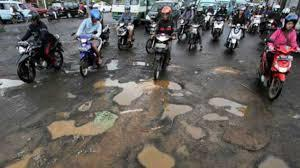Pothole: (90, 71, 188, 107), (30, 106, 122, 143), (208, 80, 245, 124), (130, 138, 184, 168), (152, 93, 191, 129), (1, 134, 40, 168), (243, 148, 300, 168), (203, 62, 245, 82), (55, 53, 84, 79), (96, 50, 122, 76), (177, 121, 208, 142), (0, 70, 26, 94), (198, 105, 228, 125), (133, 51, 148, 71)
